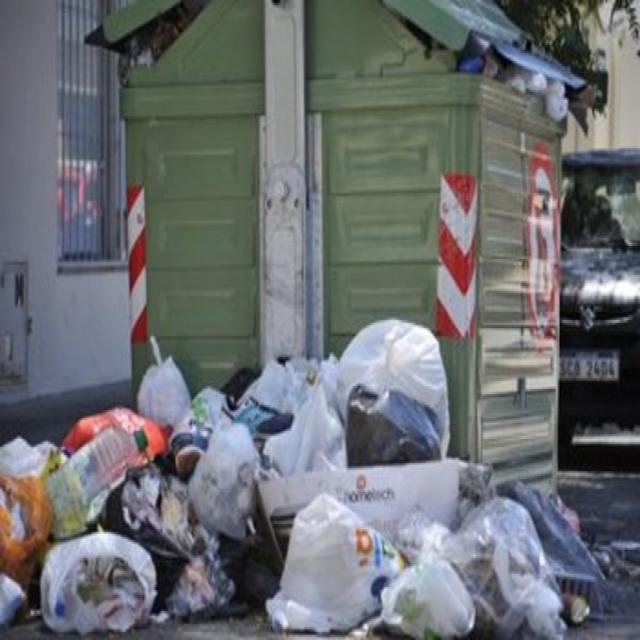garbage: (0, 317, 596, 639), (448, 29, 572, 121)
